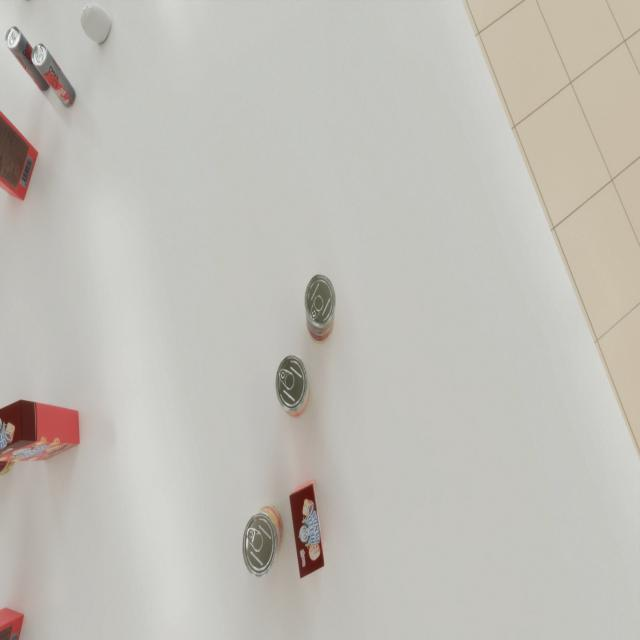HelloPanda: (0, 400, 80, 461), (290, 479, 324, 578)
Potato_sticks: (242, 505, 283, 578), (304, 274, 336, 344), (276, 354, 310, 418)
Rita_zero_sugar: (5, 26, 52, 92), (31, 43, 76, 108)
Salt: (80, 3, 111, 43)
